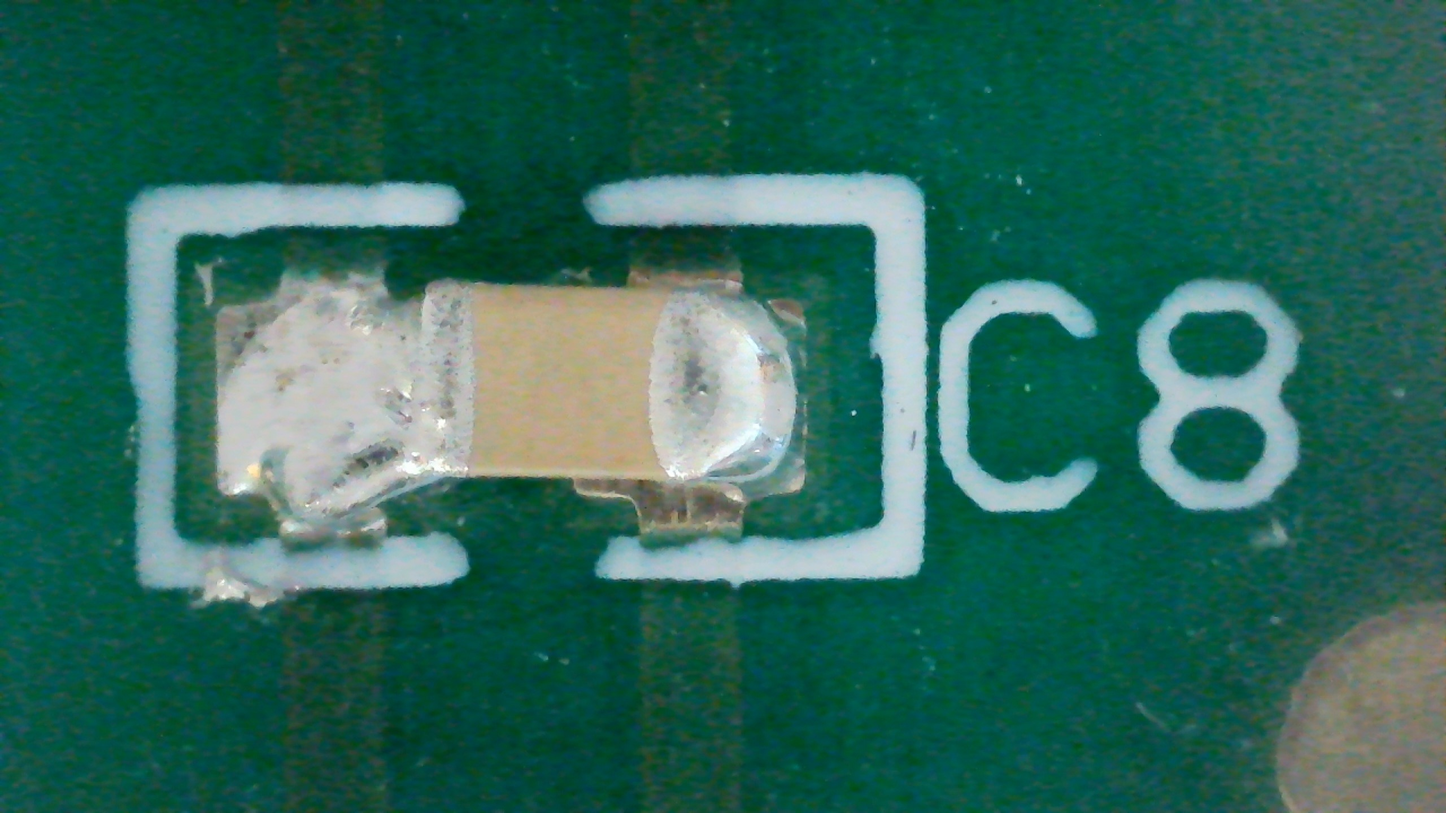OK: (217, 271, 806, 539)
